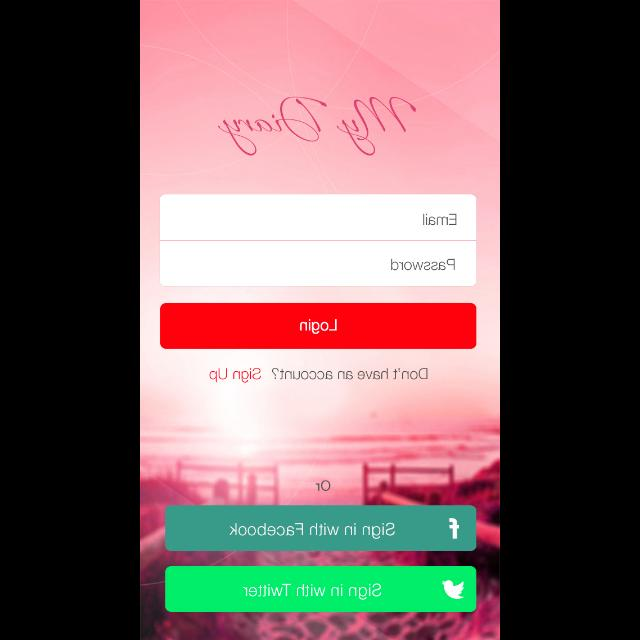backgroundimage: (139, 1, 499, 640)
input: (158, 194, 476, 240), (160, 242, 476, 286)
text: (217, 96, 417, 156), (208, 368, 428, 382), (391, 259, 455, 271), (422, 214, 456, 226), (316, 481, 330, 492)
textbutton: (160, 303, 476, 349), (166, 566, 477, 612), (165, 506, 475, 550)
